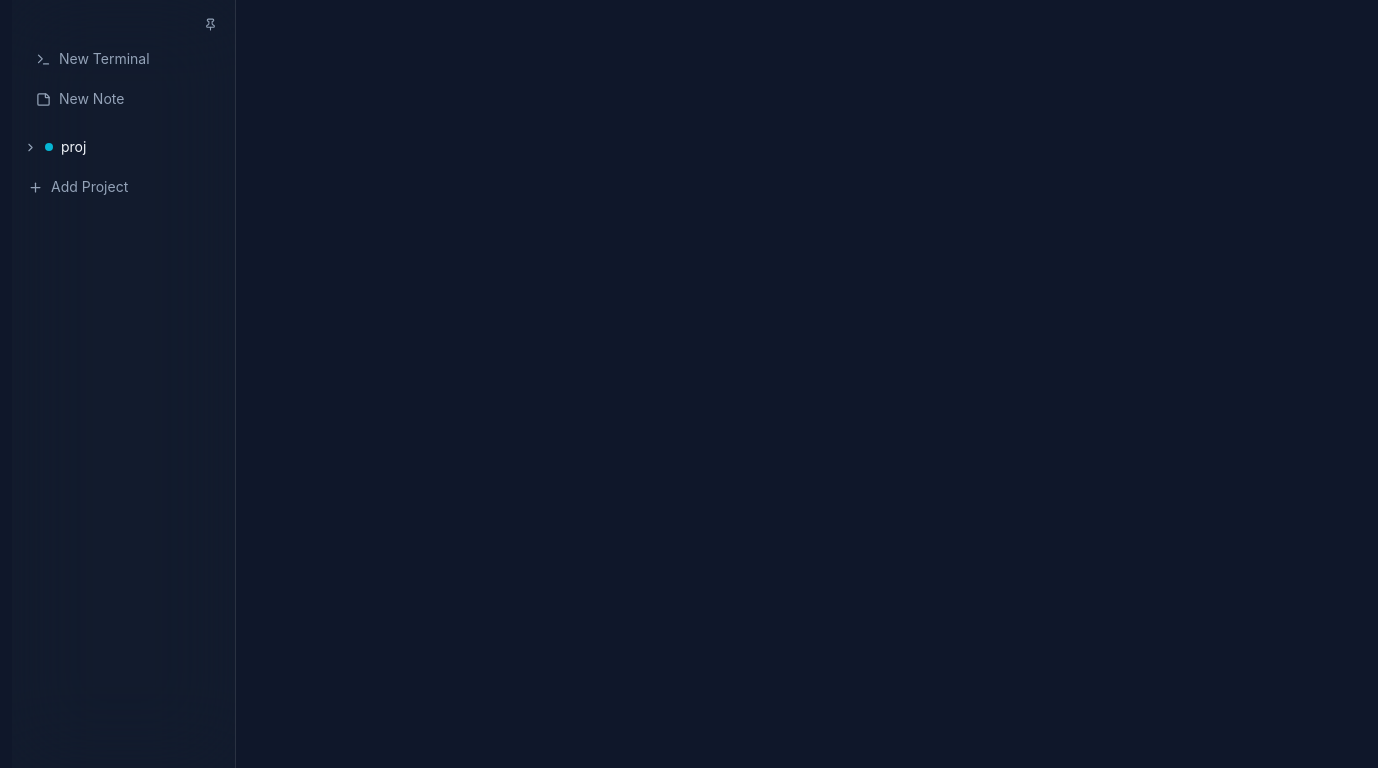
Test: Sidebar context menu portal › still dismisses on an outside pointerdown once portaled
This screenshot has width=1378, height=768.
Right-click the button "proj" at (96, 147), box left=20, top=129, right=171, bottom=165
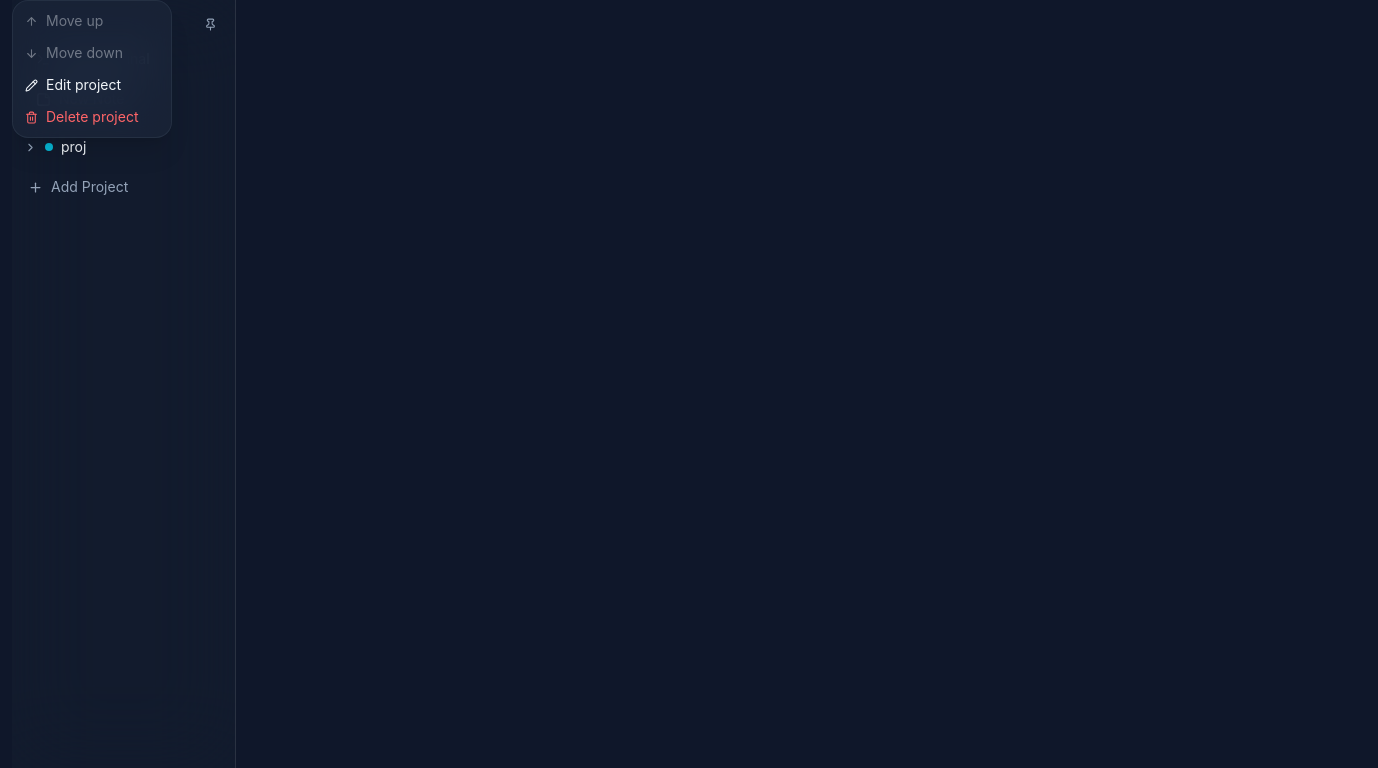
Expected: the button "Edit project" is shown, left=13, top=69, right=171, bottom=101
Press the mouse on the element that starts with "New Terminal" at (695, 384), box left=12, top=0, right=1377, bottom=767
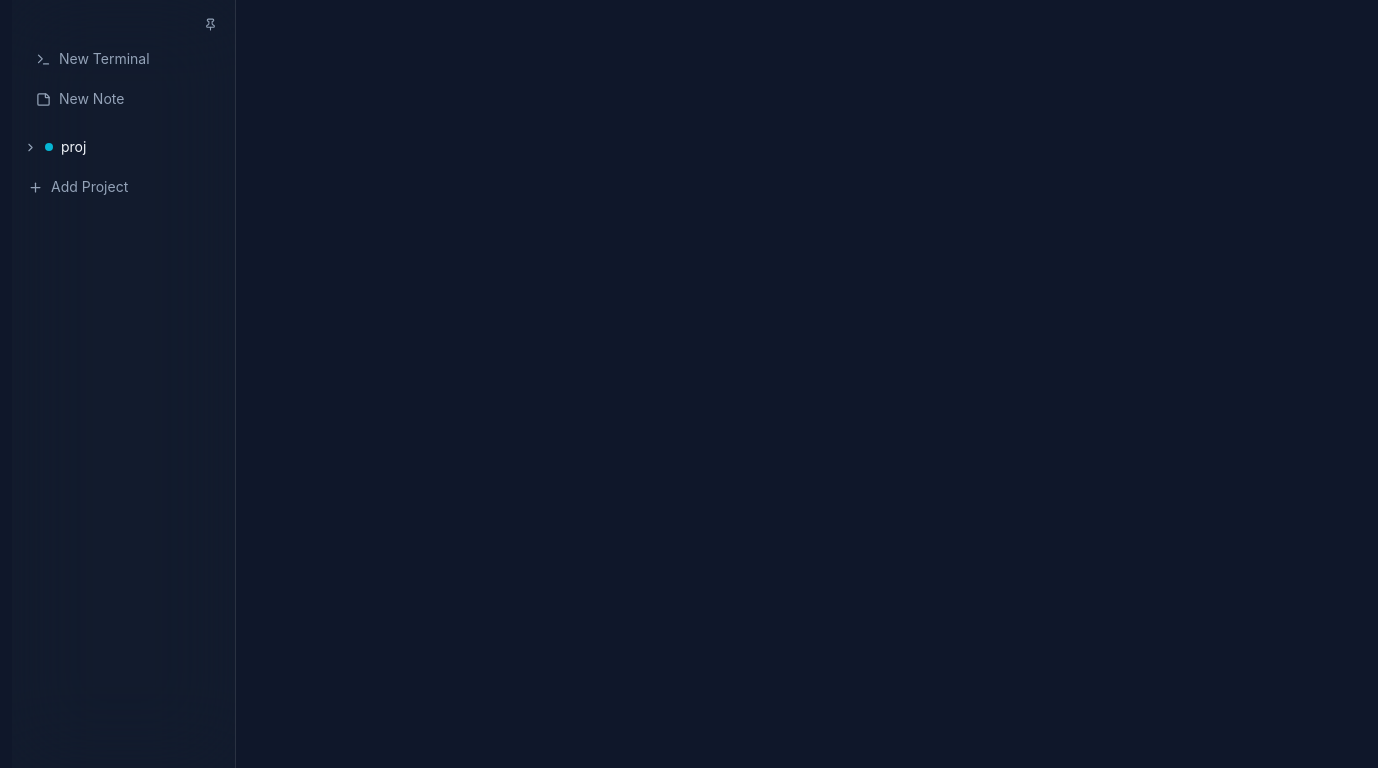
Expected: the button "Edit project" is gone
